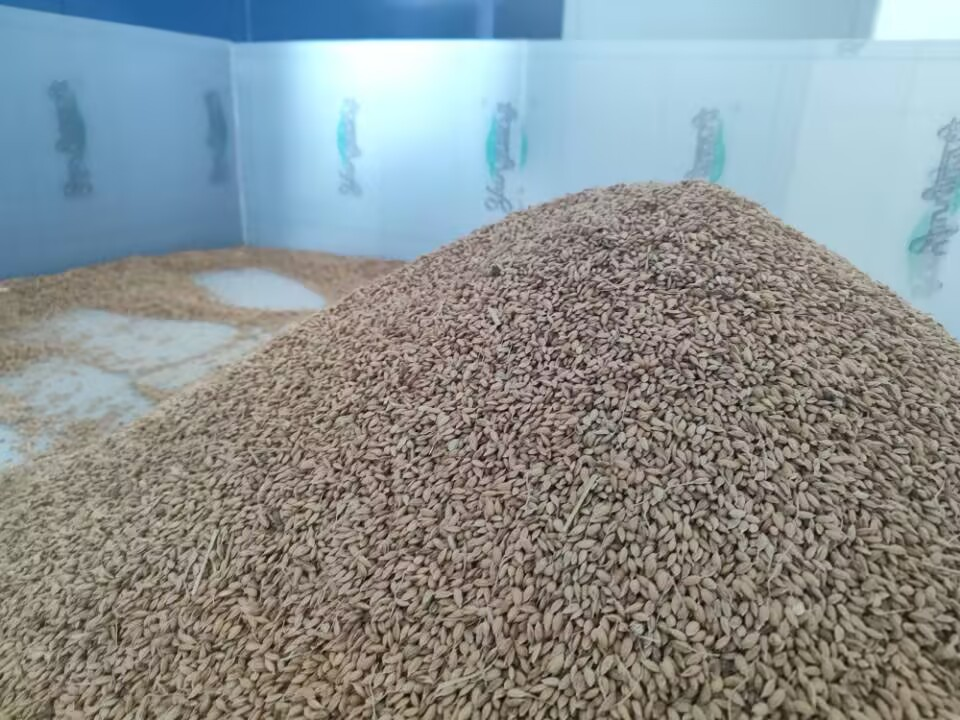Grain: (249, 180, 960, 717)
